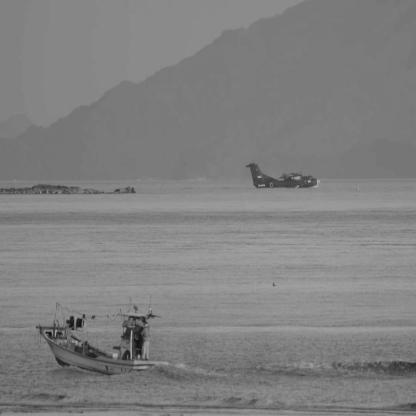US2: (245, 164, 322, 190)
